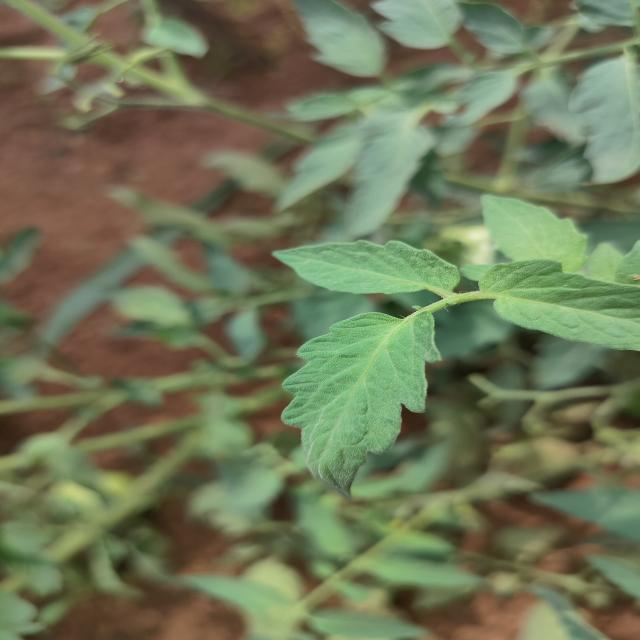tomato_healthy: (272, 304, 452, 511), (273, 236, 476, 300)
